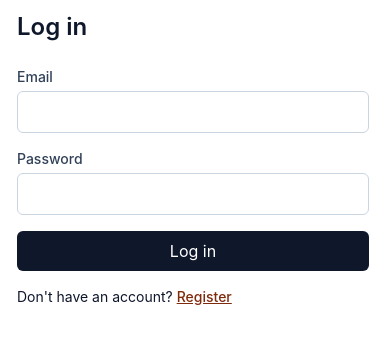
Test: LoginPage › shows the server error and stays on the page for a wrong password
Type "reader@example.com" into the field labelled "Email".
click(193, 112); type("reader@example.com")  # box [17, 91, 369, 133]
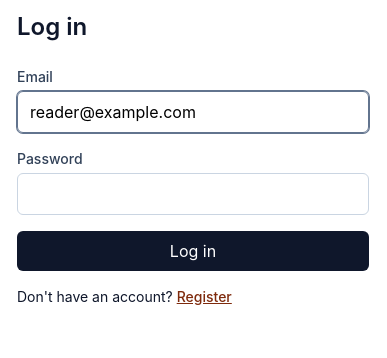
Type "wrongpassword" into the password field labelled "Password".
click(193, 194); type("wrongpassword")  # box [17, 173, 369, 215]
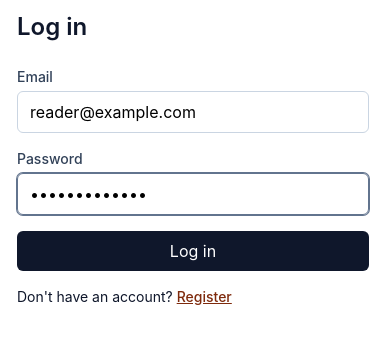
Click the button "Log in".
click(193, 251)  # box [17, 231, 369, 271]
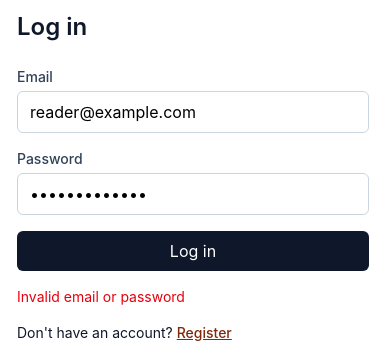
Check: the text "Invalid email or password" is shown, box [17, 288, 185, 305]
